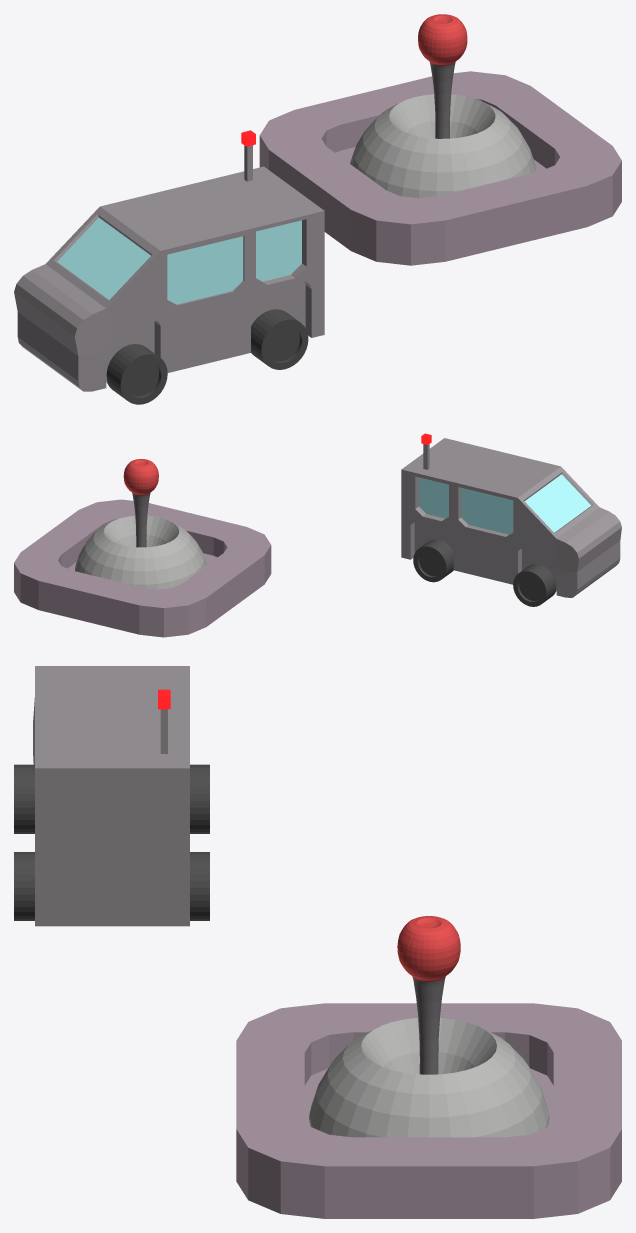
The model's file is Car+joy.fbx.
The picture shows the model from 3 angles, top to bottom: view 1: azimuth 30°, elevation 25°; view 2: azimuth 150°, elevation 25°; view 3: azimuth 270°, elevation 25°; orthographic projection. The views are drawn at different scales.
Visible parts, largest first — view 1: Cube, Cube.001, Sphere, Cylinder.002, Cylinder.001, Cylinder; view 2: Cube, Cube.001, Sphere, Cylinder.002, Cylinder.001, Cylinder; view 3: Cube.001, Cube, Sphere, Cylinder.002, Cylinder.001, Cylinder.
Part boxes in pixels (bbox=[...]): Cube: bbox=[14, 130, 324, 391]; Cube.001: bbox=[259, 71, 621, 265]; Sphere: bbox=[350, 94, 535, 198]; Cylinder.002: bbox=[418, 14, 467, 138]; Cylinder.001: bbox=[106, 344, 167, 404]; Cylinder: bbox=[251, 309, 308, 369]; Cube: bbox=[401, 433, 621, 597]; Cube.001: bbox=[14, 499, 271, 637]; Sphere: bbox=[75, 515, 206, 589]; Cylinder.002: bbox=[123, 459, 158, 547]; Cylinder.001: bbox=[513, 564, 555, 606]; Cylinder: bbox=[413, 539, 453, 582]; Cube.001: bbox=[236, 1003, 621, 1218]; Cube: bbox=[33, 666, 189, 926]; Sphere: bbox=[309, 1018, 549, 1137]; Cylinder.002: bbox=[397, 916, 460, 1074]; Cylinder.001: bbox=[14, 764, 209, 833]; Cylinder: bbox=[14, 852, 209, 920].
Bounding box in the file's own units: 504 × 151 × 319.
